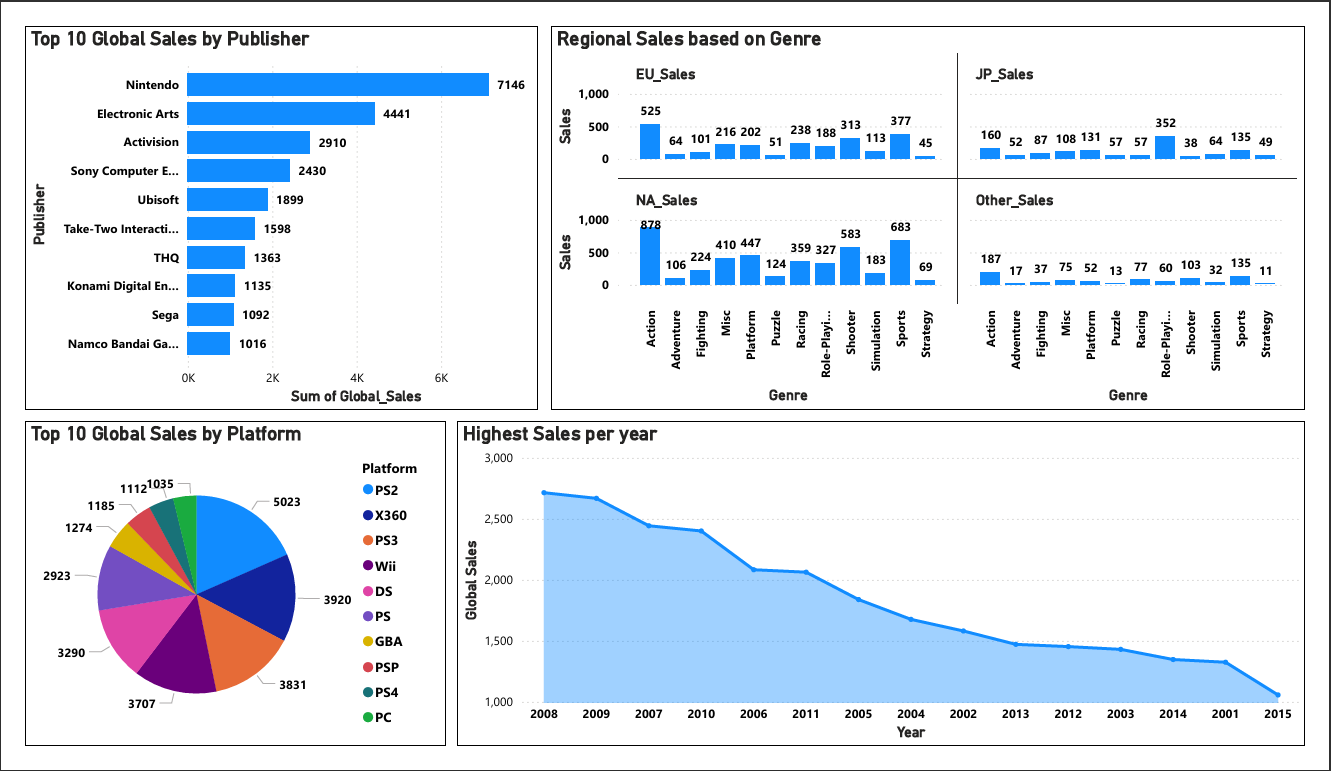

This screenshot's page, from the dashboard's own definition file:
{"tool":"powerbi","page":{"name":"Sales Data","canvas":[1280,720],"ordinal":1},"visuals":[{"type":"stackedAreaChart","title":"Highest Sales per year","fields":{"Category":["Video Games Sales.Year"],"Y":["Sum(Video Games Sales.Global_Sales)"]},"box":[432.3,395.2,848.1,325.2],"z":0},{"type":"barChart","title":"Top 10 Global Sales by Publisher","fields":{"Category":["Video Games Sales.Publisher"],"Y":["Sum(Video Games Sales.Global_Sales)"]},"box":[0,0,513.3,384.3],"z":1000},{"type":"columnChart","title":"Regional Sales based on Genre","fields":{"Category":["Video Games Sales.Genre"],"Y":["Sum(Video Games Sales.Country_Sales)"],"Rows":["Video Games Sales.Country"]},"box":[525.6,0,754.8,384.3],"z":2000},{"type":"pieChart","title":"Top 10 Global Sales by Platform","fields":{"Category":["Video Games Sales.Platform"],"Y":["Sum(Video Games Sales.Global_Sales)"]},"box":[0,395.2,421.3,325.2],"z":3000}]}

Visuals, with their boxes in screenshot pixels (x1, y1, x2, y2), scaled from the page's 1280x720 canvas onto the 1331x771 screenshot:
"Highest Sales per year" stackedAreaChart: 450:423:1330:770
"Top 10 Global Sales by Publisher" barChart: 0:0:534:412
"Regional Sales based on Genre" columnChart: 547:0:1330:412
"Top 10 Global Sales by Platform" pieChart: 0:423:438:770
